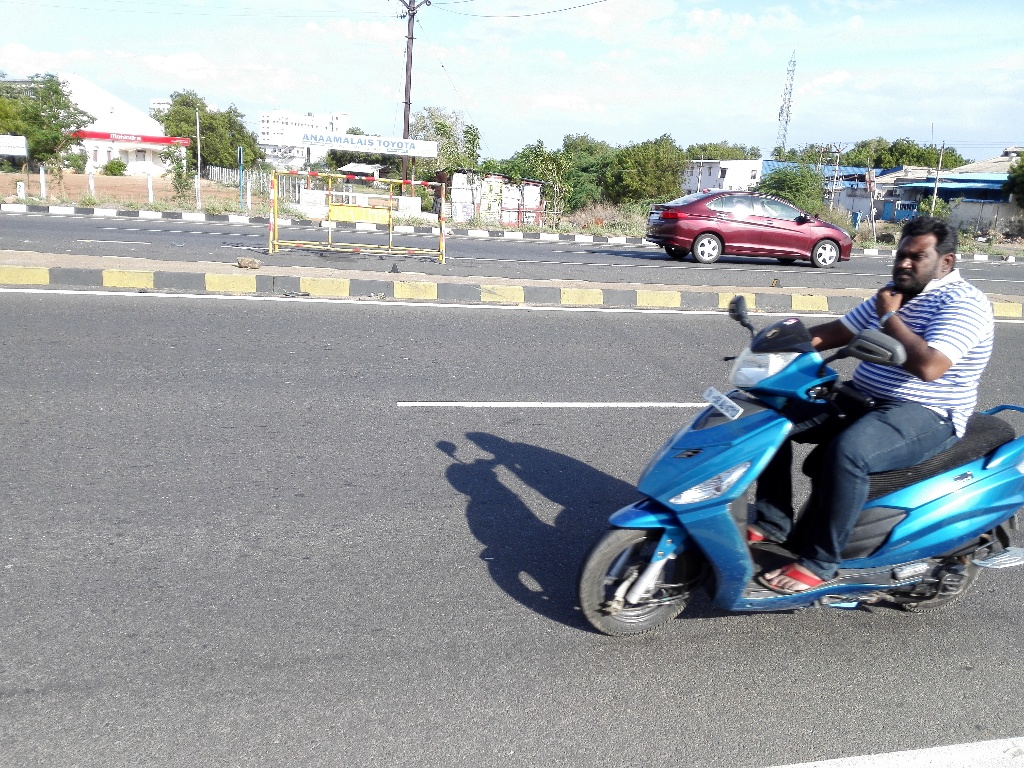biker: (566, 175, 1024, 655)
nohelmet: (885, 208, 970, 308)
